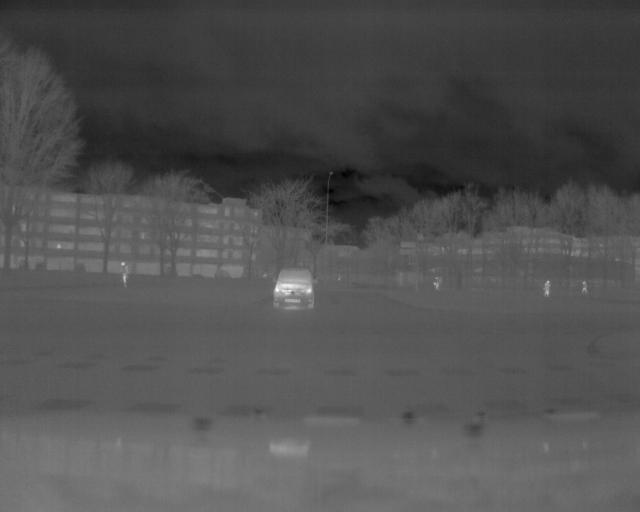car: (272, 268, 315, 316)
person: (120, 261, 130, 291), (579, 277, 589, 300), (545, 277, 550, 298)
